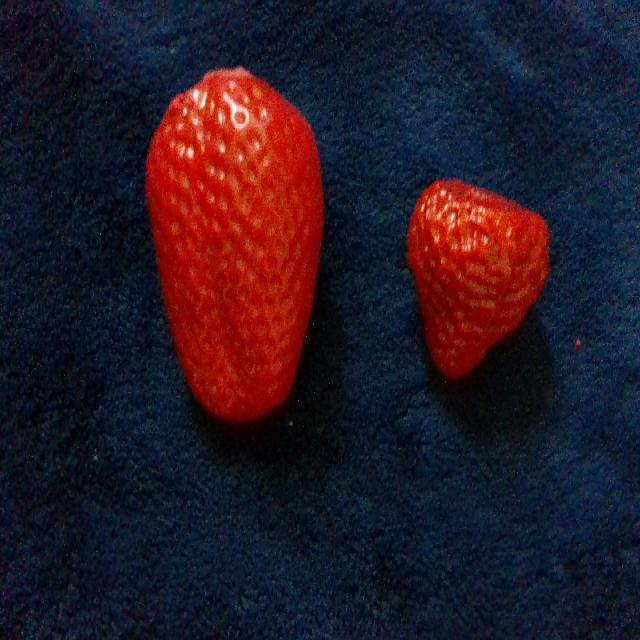chica_roja: (408, 180, 549, 377)
grande_roja: (146, 68, 321, 419)
